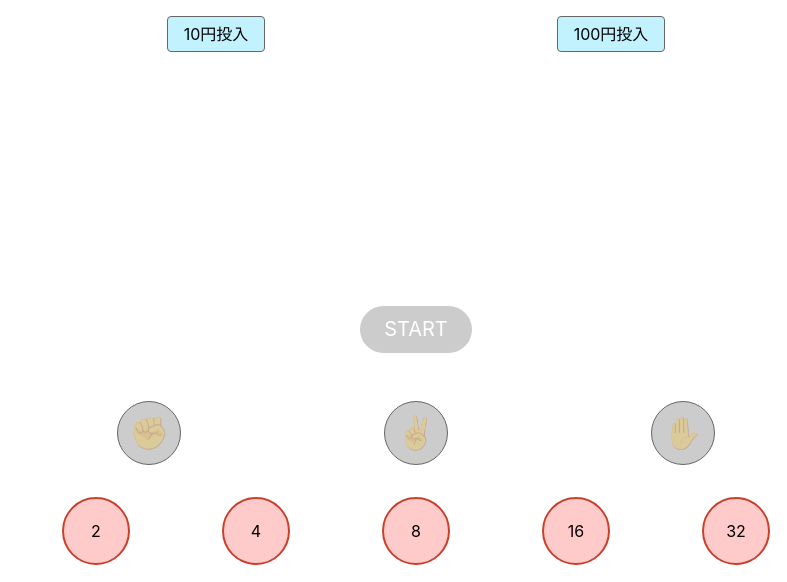
JankenMain Component › increments win count and medals on win
This screenshot has width=787, height=582.
Click the button "10円投入". click: coordinates (216, 34)
box: [167, 16, 265, 52]
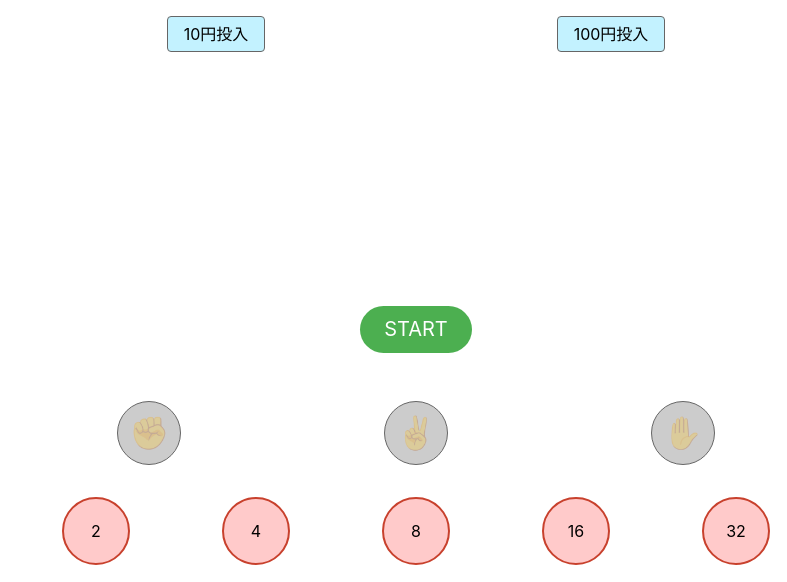
Click the button "START". click: coordinates (416, 330)
box: [360, 306, 472, 353]
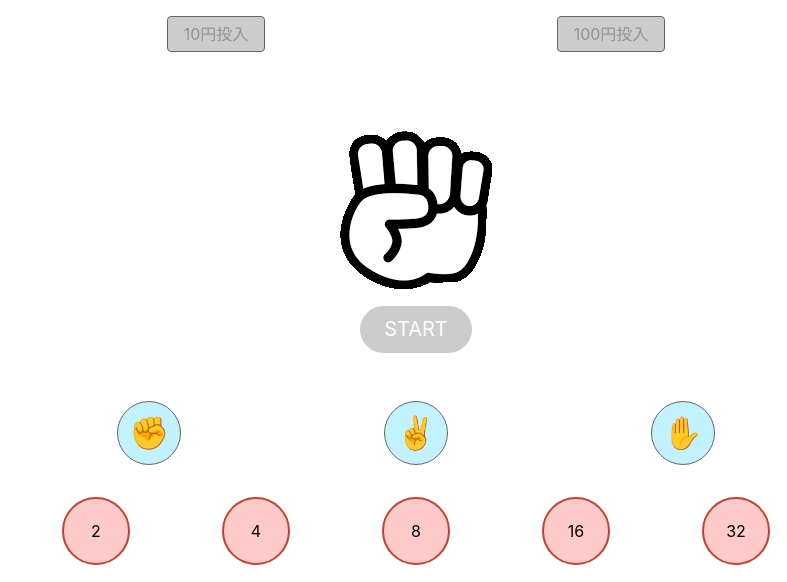
Click the button "✊". click: coordinates (149, 433)
box: [117, 401, 181, 465]
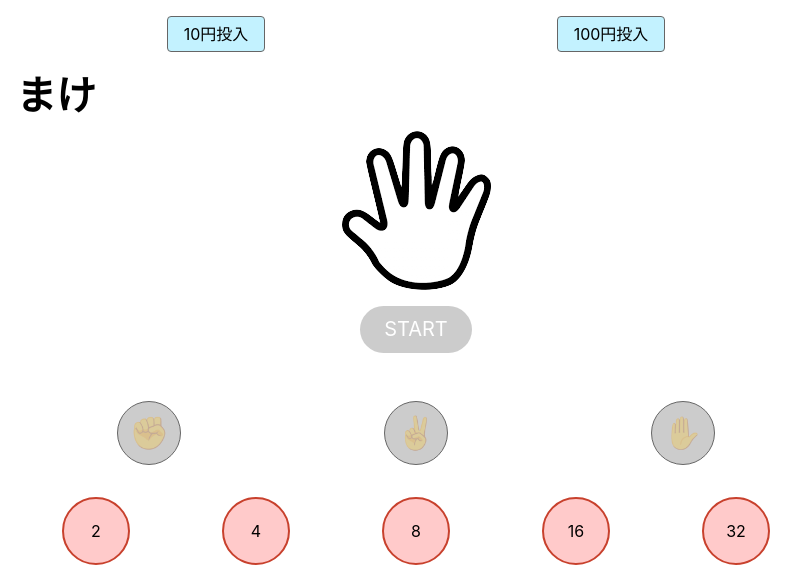
Check: the text "まけ" is shown, box [16, 71, 96, 120]
